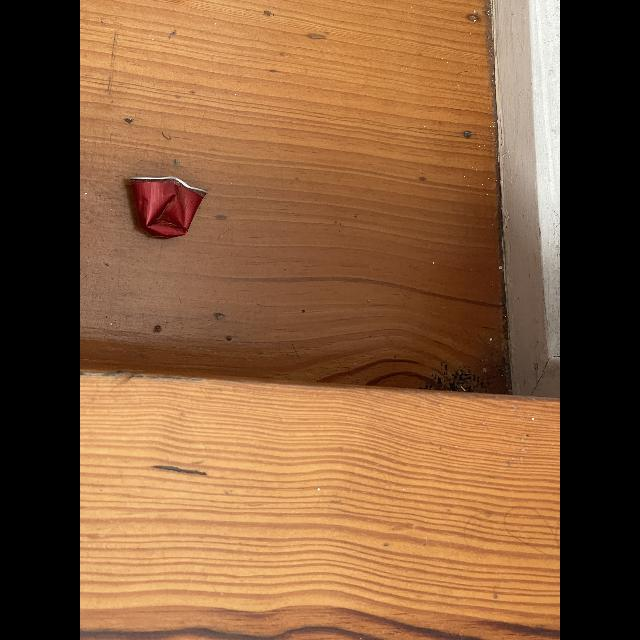damaged_capsule: (116, 167, 220, 245)
